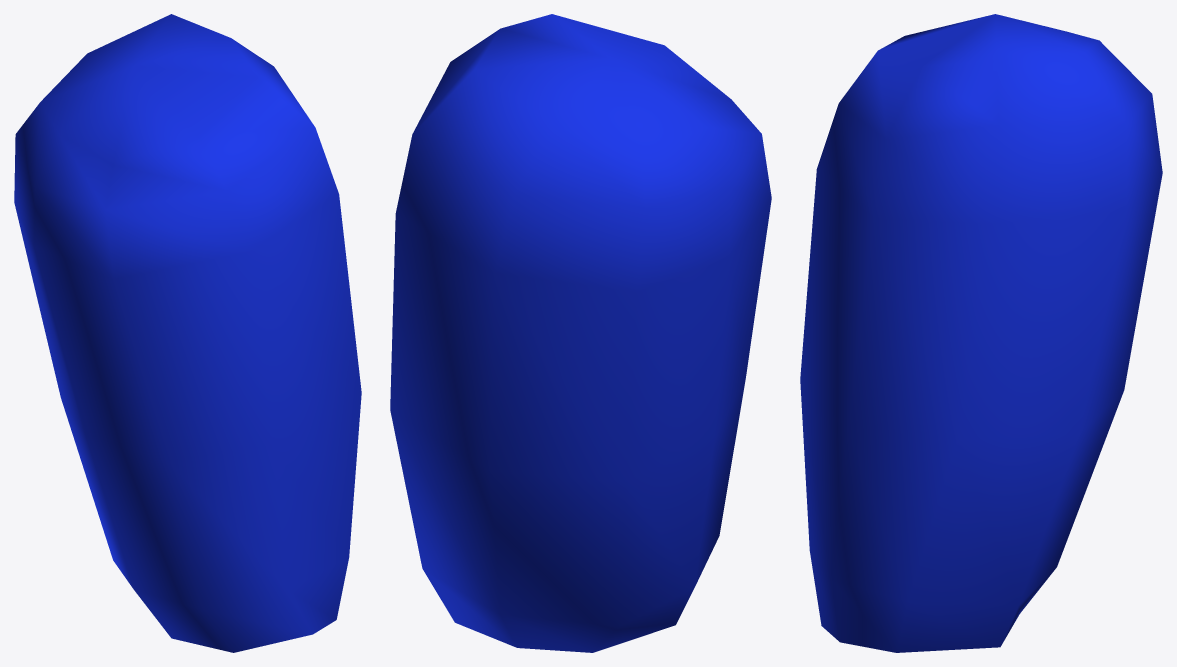
The model's file is Overcoat leftlower.fbx.
The picture shows the model from 3 angles, left to right: view 1: azimuth 30°, elevation 25°; view 2: azimuth 150°, elevation 25°; view 3: azimuth 270°, elevation 25°; orthographic projection. The views are drawn at different scales.
Parts seen in each view (by area): view 1: LeftLowerLongSleeve.001; view 2: LeftLowerLongSleeve.001; view 3: LeftLowerLongSleeve.001.
Boxes of the visible parts, x1=… form: LeftLowerLongSleeve.001: x1=14, y1=14, x2=361, y2=652; LeftLowerLongSleeve.001: x1=390, y1=14, x2=771, y2=652; LeftLowerLongSleeve.001: x1=800, y1=14, x2=1162, y2=652.
Bounding box in the file's own units: 23.03 × 41.77 × 24.05.
